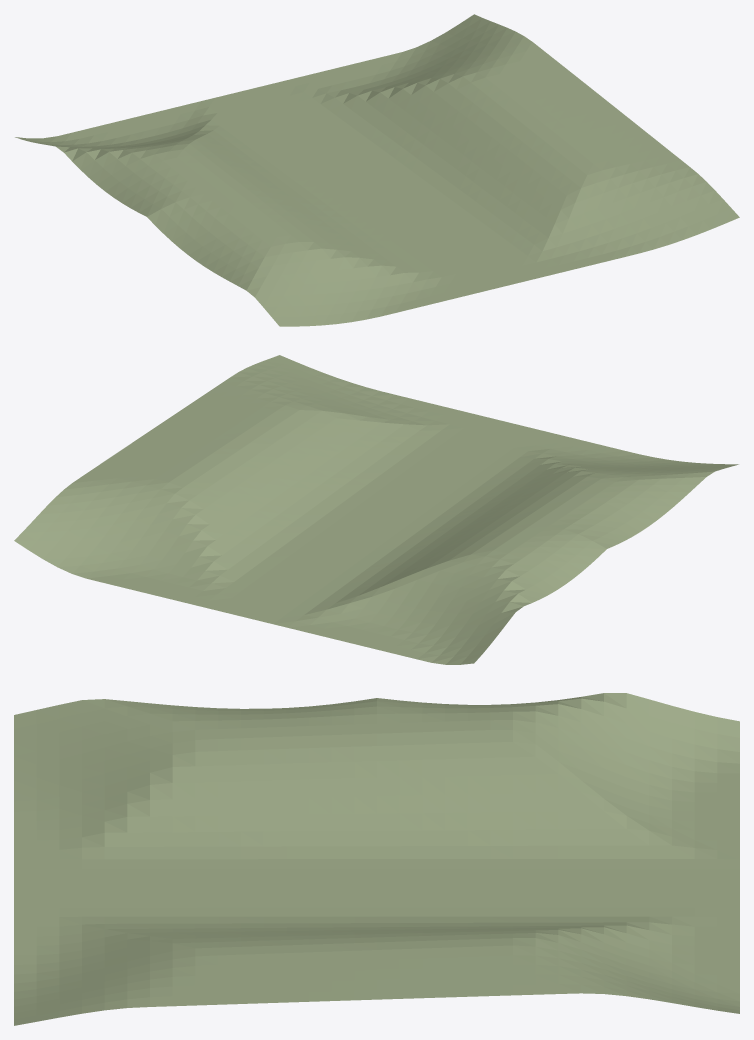
The model's file is gardens-1-3.glb.
The picture shows the model from 3 angles, top to bottom: view 1: azimuth 30°, elevation 25°; view 2: azimuth 150°, elevation 25°; view 3: azimuth 270°, elevation 25°; orthographic projection. The views are drawn at different scales.
Parts seen in each view (by area): view 1: gardens-1-3; view 2: gardens-1-3; view 3: gardens-1-3.
Part boxes in pixels (<box>): gardens-1-3: <box>15,14,739,326</box>; gardens-1-3: <box>14,355,738,664</box>; gardens-1-3: <box>14,693,739,1025</box>.
Size of the model in its own units: 256 by 20.77 by 256.
